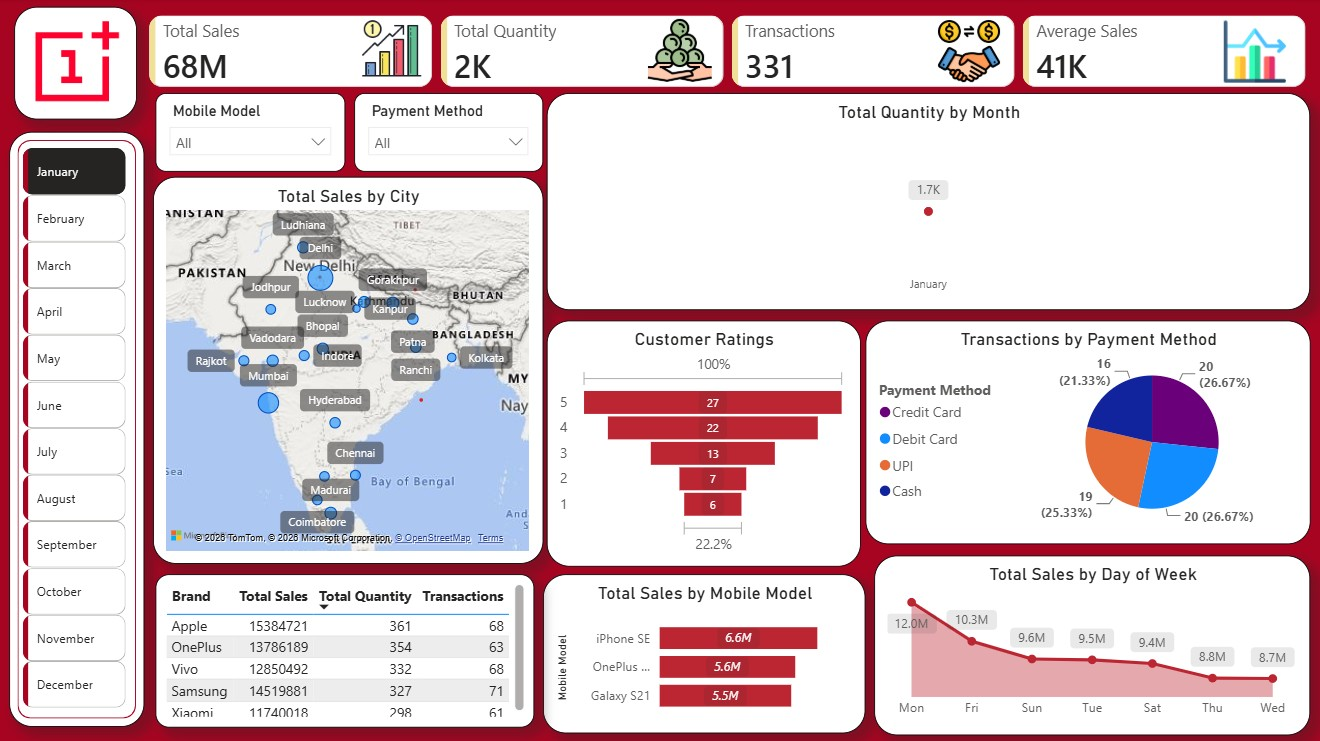

This screenshot's page, from the dashboard's own definition file:
{"tool":"powerbi","page":{"name":"PROJECT 1","canvas":[1280,720],"ordinal":0},"visuals":[{"type":"shape","box":[15.7,8.4,118.2,108.6],"z":0},{"type":"shape","box":[10.9,129.1,130.3,574.3],"z":1000},{"type":"image","box":[30.2,8.4,91.7,109.8],"z":2000},{"type":"advancedSlicerVisual","fields":{"Values":["Sales_Data.Date.Variation.Date Hierarchy.Month"]},"box":[19.3,139.9,109.8,555],"z":3000},{"type":"cardVisual","fields":{"Data":["Sales_Data.Total Sales","Sales_Data.Total Quantity","Sales_Data.Transactions","Sales_Data.Average"]},"box":[129.1,0,1150.9,103.8],"z":4000},{"type":"image","box":[306.4,13.3,147.2,74.8],"z":5000},{"type":"image","box":[606.8,18.1,102.5,65.1],"z":6000},{"type":"image","box":[898.8,19.3,77.2,63.9],"z":7000},{"type":"image","box":[1170.2,21.7,85.7,60.3],"z":8000},{"type":"map","fields":{"Category":["Sales_Data.City"],"Size":["Sales_Data.Total Sales"]},"box":[149.6,172.5,376.4,374],"z":9000},{"type":"lineChart","fields":{"Y":["Sales_Data.Total Quantity"],"Category":["Sales_Data.Date.Variation.Date Hierarchy.Month","Sales_Data.Date.Variation.Date Hierarchy.Day"]},"box":[529.6,91.7,737.1,209.9],"z":10000},{"type":"clusteredBarChart","fields":{"Category":["Sales_Data.Mobile Model"],"Y":["Sales_Data.Total Sales"]},"box":[526,556.2,311.3,153.2],"z":11000},{"type":"pieChart","fields":{"Category":["Sales_Data.Payment Method"],"Y":["Sales_Data.Transactions"]},"box":[837.3,311.3,429.5,216],"z":12000},{"type":"funnel","title":" Customer Ratings ","fields":{"Category":["Sales_Data.Customer Ratings"],"Y":["CountNonNull(Sales_Data.Customer Ratings)"]},"box":[529.6,311.3,302.8,237.7],"z":13000},{"type":"areaChart","fields":{"Y":["Sales_Data.Total Sales"],"Category":["Sales_Data.Day Short"]},"box":[845.7,538.1,421,173.7],"z":14000},{"type":"tableEx","fields":{"Values":["Sales_Data.Brand","Sales_Data.Total Sales","Sales_Data.Total Quantity","Sales_Data.Transactions"]},"box":[151.8,556.7,365.9,147.9],"z":15000},{"type":"slicer","fields":{"Values":["Sales_Data.Mobile Model"]},"box":[152,91.7,183.4,76],"z":16000},{"type":"slicer","fields":{"Values":["Sales_Data.Payment Method"]},"box":[343.8,91.7,182.2,76],"z":17000}]}

Visuals, with their boxes in screenshot pixels (x1, y1, x2, y2), scaled from the page's 1280x720 canvas onto the 1320x741 screenshot:
shape: [16, 9, 138, 120]
shape: [11, 133, 146, 724]
image: [31, 9, 126, 122]
advancedSlicerVisual - Sales_Data.Date.Variation.Date Hierarchy.Month: [20, 144, 133, 715]
cardVisual - Sales_Data.Total Sales x Sales_Data.Total Quantity: [133, 0, 1319, 107]
image: [316, 14, 468, 91]
image: [626, 19, 731, 86]
image: [927, 20, 1006, 86]
image: [1207, 22, 1295, 84]
map - Sales_Data.City x Sales_Data.Total Sales: [154, 178, 542, 562]
lineChart - Sales_Data.Total Quantity x Sales_Data.Date.Variation.Date Hierarchy.Month: [546, 94, 1306, 310]
clusteredBarChart - Sales_Data.Mobile Model x Sales_Data.Total Sales: [542, 572, 863, 730]
pieChart - Sales_Data.Payment Method x Sales_Data.Transactions: [863, 320, 1306, 543]
" Customer Ratings " funnel: [546, 320, 858, 565]
areaChart - Sales_Data.Total Sales x Sales_Data.Day Short: [872, 554, 1306, 733]
tableEx - Sales_Data.Brand x Sales_Data.Total Sales: [157, 573, 534, 725]
slicer - Sales_Data.Mobile Model: [157, 94, 346, 173]
slicer - Sales_Data.Payment Method: [355, 94, 542, 173]
